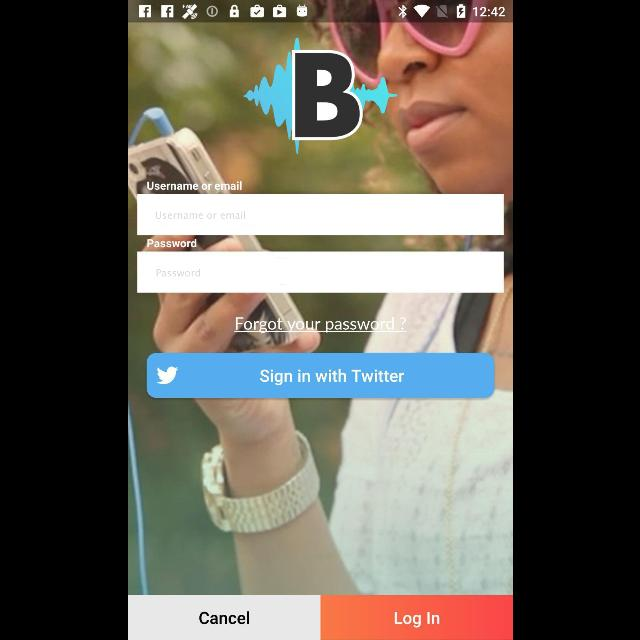backgroundimage: (128, 23, 512, 595)
image: (242, 38, 396, 154)
input: (136, 194, 504, 236), (136, 252, 504, 292)
text: (234, 317, 406, 333), (147, 182, 241, 190), (156, 211, 244, 219), (147, 238, 196, 248), (156, 269, 200, 277)
textbutton: (146, 352, 494, 398), (127, 596, 319, 640), (320, 596, 512, 640)
uppertaskbar: (128, 1, 512, 23)
